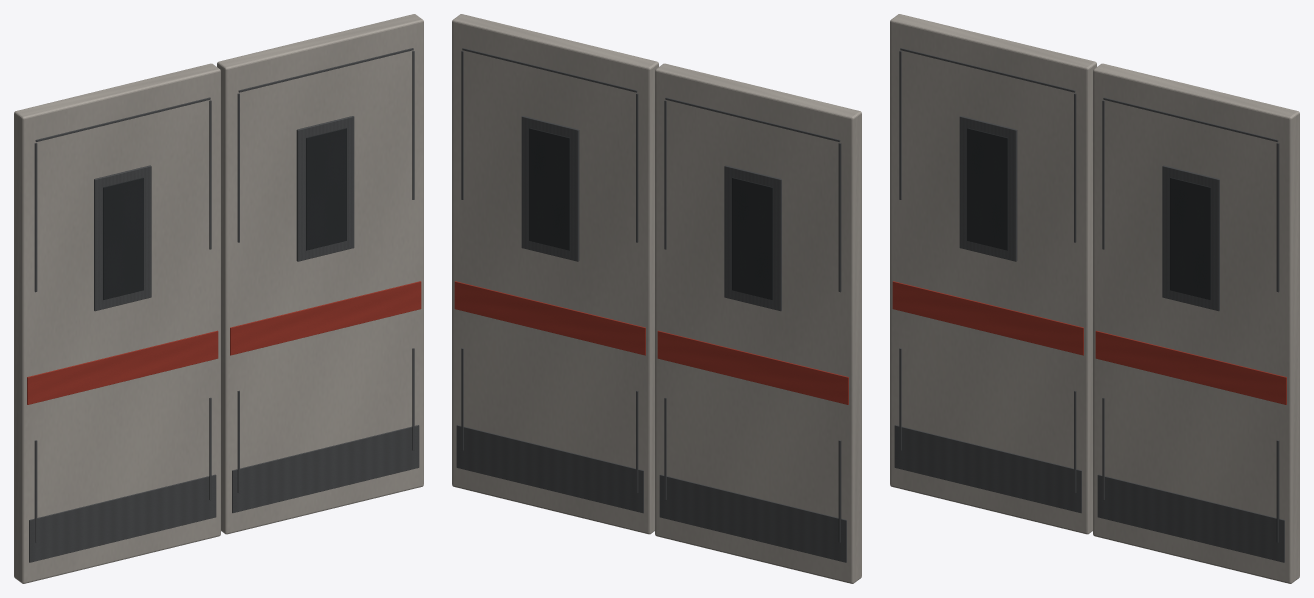
Rendered from double_door.glb.
3 renders of one model, left to right at view 1: azimuth 30°, elevation 25°; view 2: azimuth 150°, elevation 25°; view 3: azimuth 330°, elevation 25°, orthographic.
Parts seen in each view (by area): view 1: sliding_leaf.002, sliding_leaf.003, kick_plate.004, kick_plate.006, red_stripe.004, red_stripe.002, window_inset.002, window_inset.004, window_bezel.004, window_bezel.002, edge_reveal.017, panel_reveal.004 (+1 smaller); view 2: sliding_leaf.002, sliding_leaf.003, kick_plate.005, kick_plate.007, red_stripe.005, red_stripe.003, window_inset.003, window_inset.005, window_bezel.005, window_bezel.003, edge_reveal.021, panel_reveal.005 (+1 smaller); view 3: sliding_leaf.003, sliding_leaf.002, kick_plate.006, kick_plate.004, red_stripe.002, red_stripe.004, window_inset.002, window_inset.004, window_bezel.002, window_bezel.004, edge_reveal.027, panel_reveal.004 (+1 smaller).
Part boxes in pixels (x1,y1,x2,y2): sliding_leaf.002: [14, 63, 220, 583]; sliding_leaf.003: [217, 14, 423, 534]; kick_plate.004: [29, 474, 216, 562]; kick_plate.006: [232, 425, 419, 513]; red_stripe.004: [230, 281, 421, 355]; red_stripe.002: [27, 330, 218, 404]; window_inset.002: [103, 177, 143, 299]; window_inset.004: [306, 128, 346, 250]; window_bezel.004: [296, 116, 354, 261]; window_bezel.002: [94, 165, 151, 311]; edge_reveal.017: [34, 143, 37, 292]; panel_reveal.004: [35, 97, 210, 141]; sliding_leaf.002: [655, 63, 861, 583]; sliding_leaf.003: [452, 14, 658, 534]; kick_plate.005: [659, 474, 846, 562]; kick_plate.007: [456, 425, 643, 513]; red_stripe.005: [454, 281, 645, 355]; red_stripe.003: [657, 330, 848, 404]; window_inset.003: [732, 177, 772, 299]; window_inset.005: [529, 128, 569, 250]; window_bezel.005: [521, 116, 579, 261]; window_bezel.003: [724, 165, 781, 311]; edge_reveal.021: [838, 143, 841, 292]; panel_reveal.005: [665, 97, 840, 141]; sliding_leaf.003: [1093, 63, 1299, 583]; sliding_leaf.002: [890, 14, 1096, 534]; kick_plate.006: [1097, 474, 1284, 562]; kick_plate.004: [894, 425, 1081, 513]; red_stripe.002: [892, 281, 1083, 355]; red_stripe.004: [1095, 330, 1286, 404]; window_inset.002: [967, 128, 1007, 250]; window_inset.004: [1170, 177, 1210, 299]; window_bezel.002: [959, 116, 1017, 261]; window_bezel.004: [1162, 165, 1219, 311]; edge_reveal.027: [1276, 143, 1279, 292]; panel_reveal.004: [900, 48, 1075, 92].
Size of the model in its own units: 1.98 by 2.2 by 0.105.
Materials: 4 (4 with a texture image).
